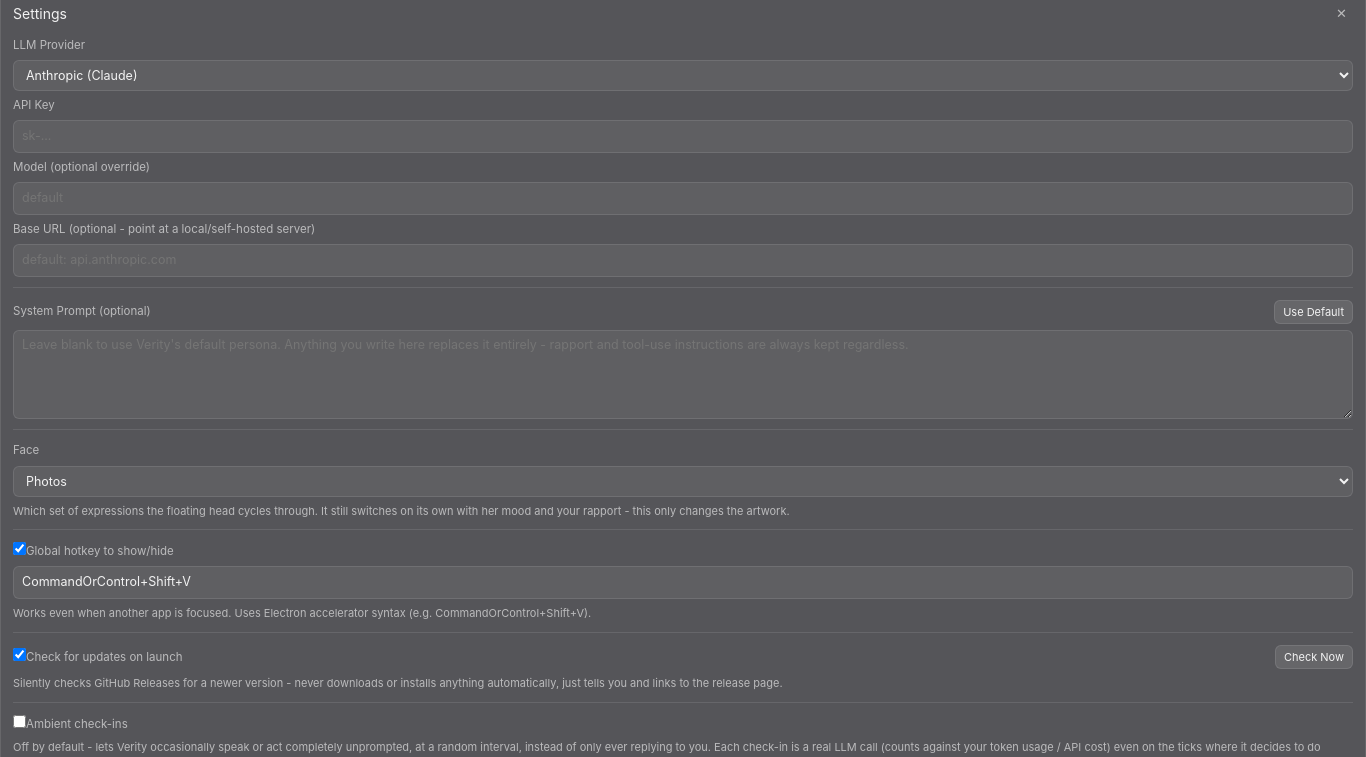
it: SettingsPanel › ambient check-ins › hides the interval inputs until enabled, then shows the saved defaults
Expected: the heading "Settings" is shown, [13,3,67,24]
Expected: the text "minutes" is not shown
Click the checkbox labelled "Ambient check-ins": {"x": 20, "y": 721} [13,714,26,728]
(page scrolled)
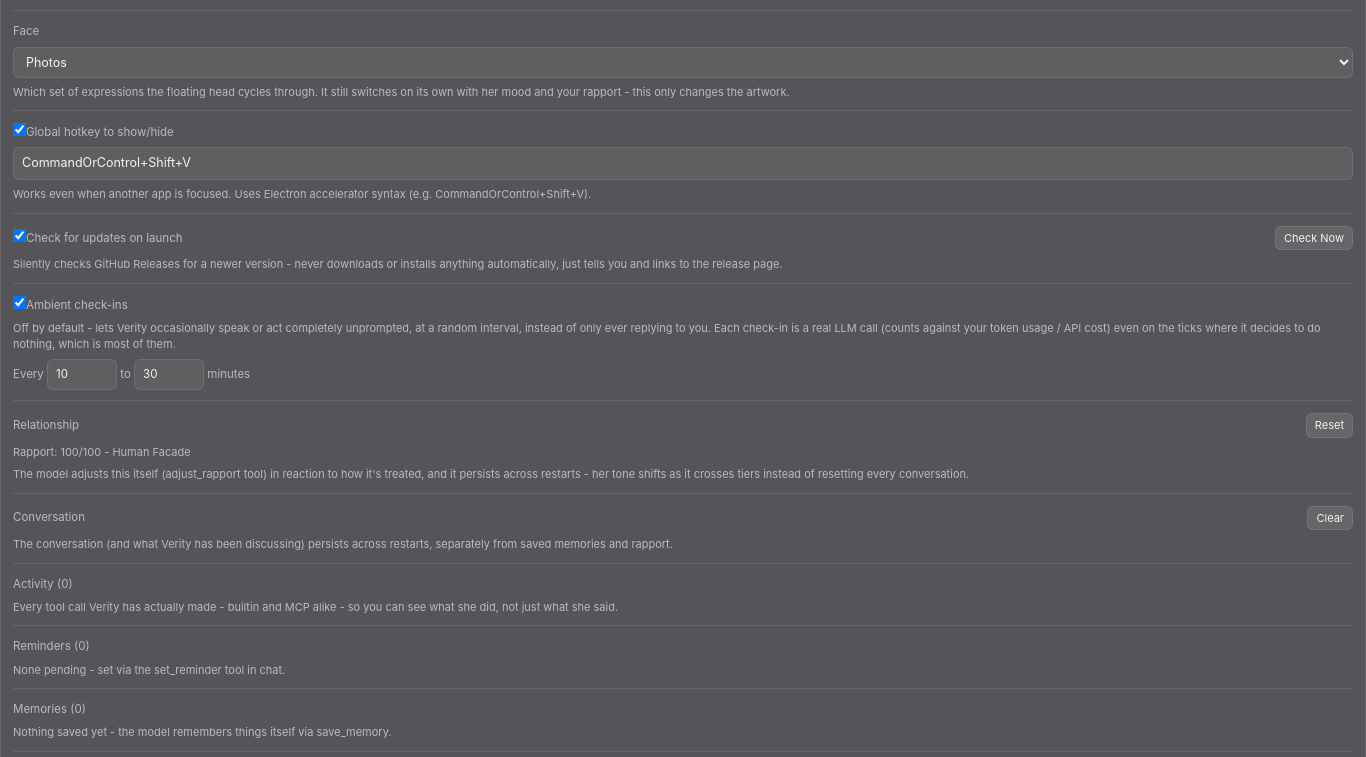
Expected: the text "Every to minutes" is shown, [13,359,250,390]
Expected: the number field labelled "Every to minutes" holds "10", [47,359,117,390]
Expected: the 2nd number field holds "30", [134,359,204,390]
